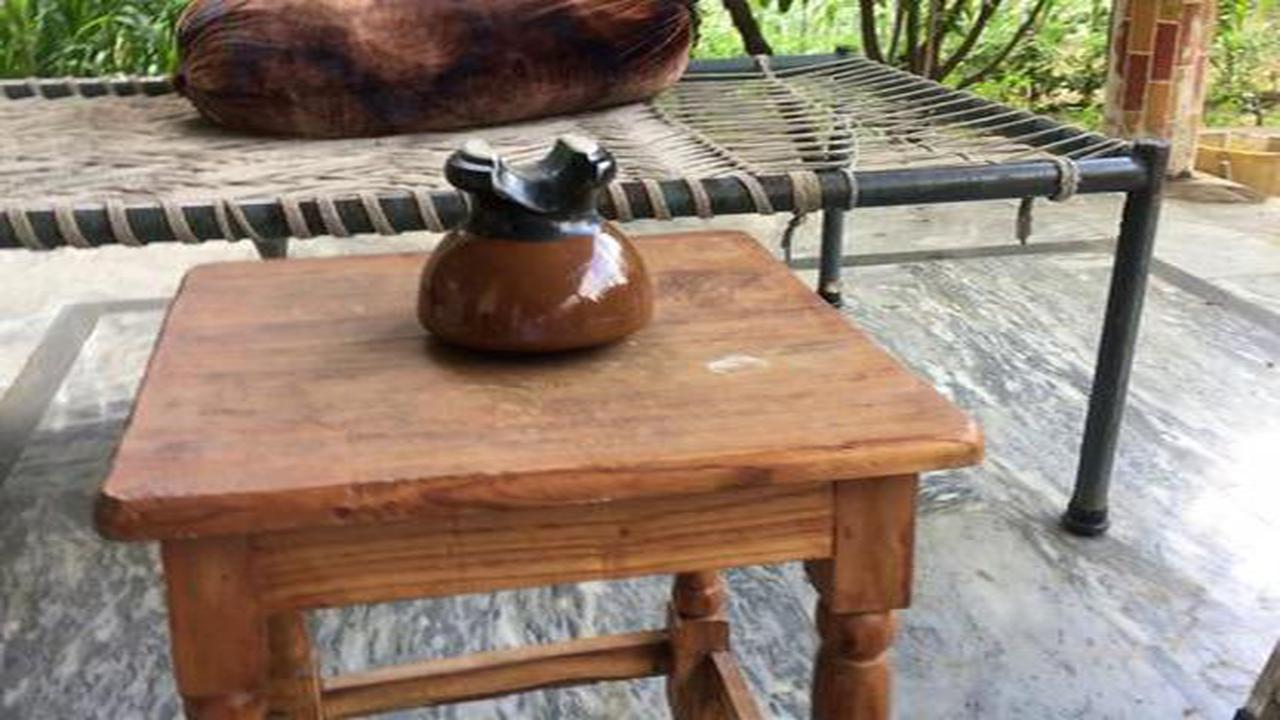insulator_pin: (385, 110, 674, 373)
